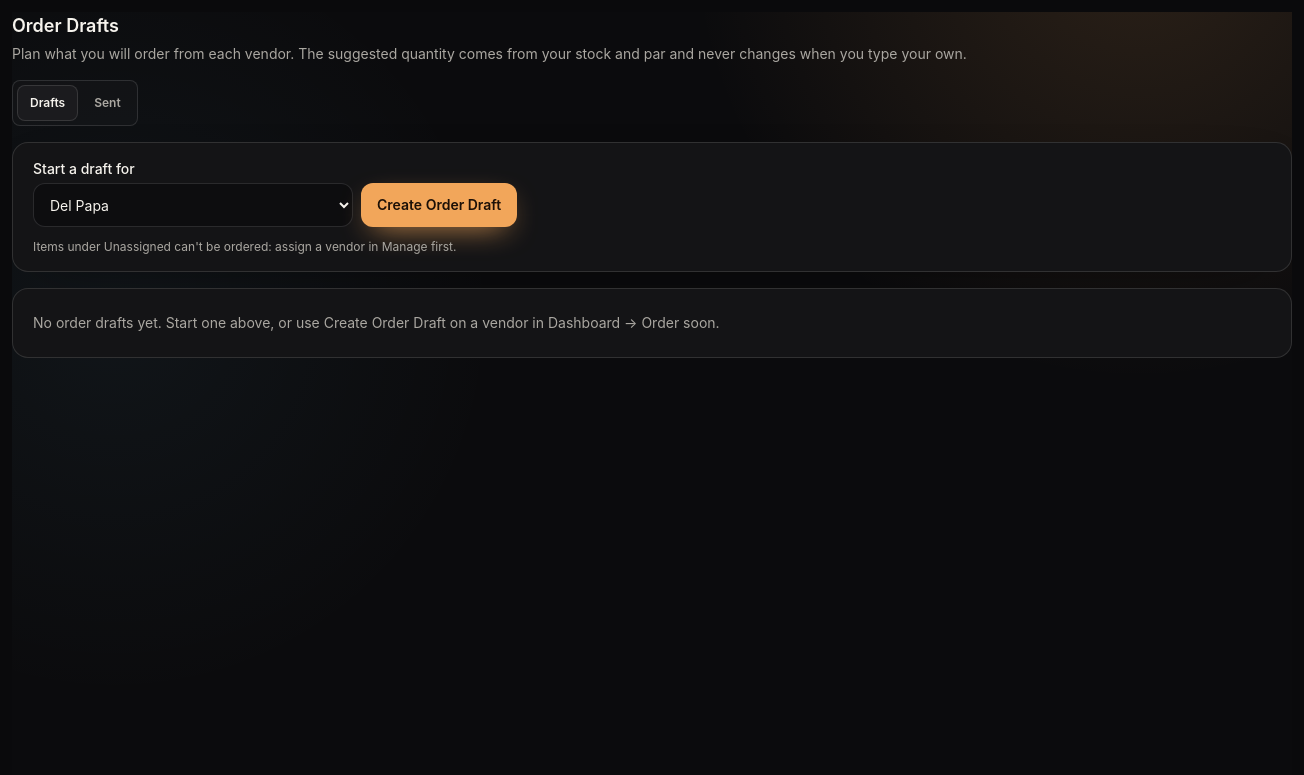
Order Drafts view states (VOD-006, loading/empty/error) › creates a draft for the chosen vendor and opens it; the vendor leaves the picker
Select "Faust" in the dropdown labelled "Start a draft for" at (193, 205), box left=33, top=183, right=353, bottom=227
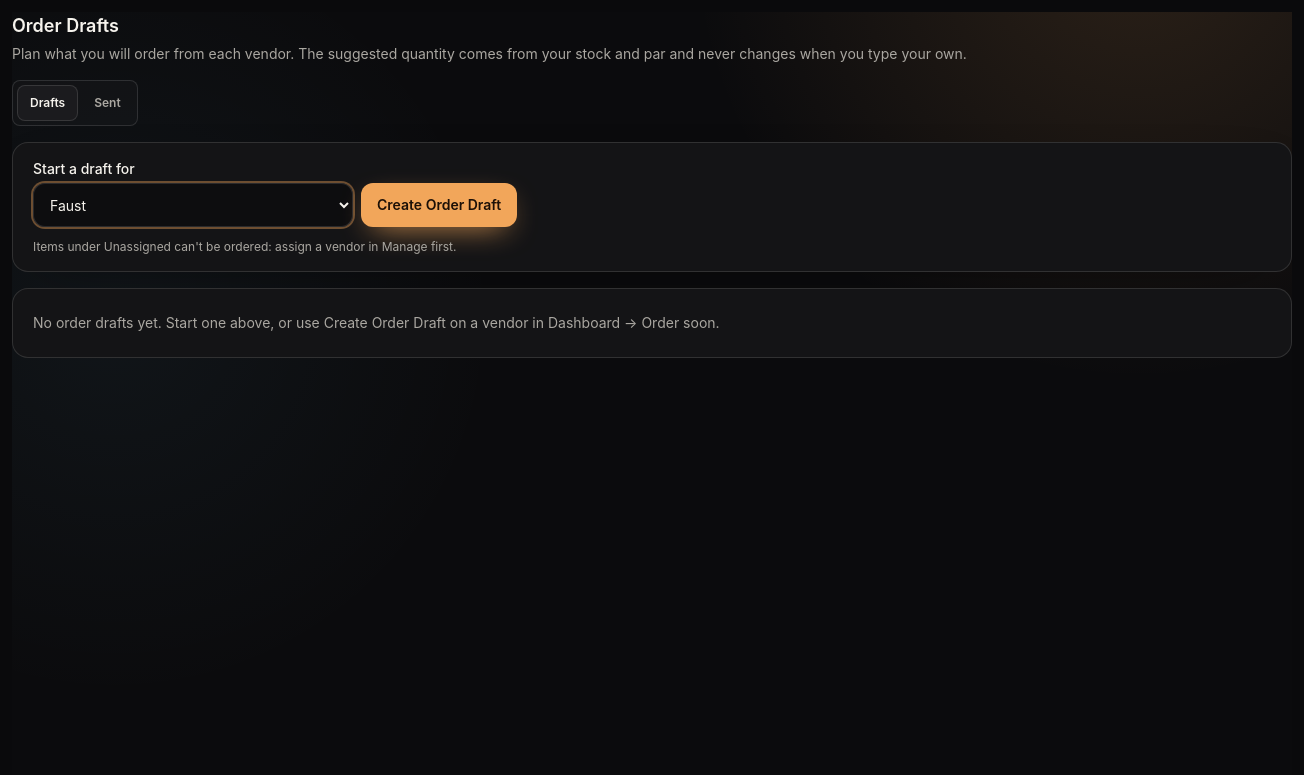
Click the button "Create Order Draft" at (439, 205), box left=361, top=183, right=517, bottom=227
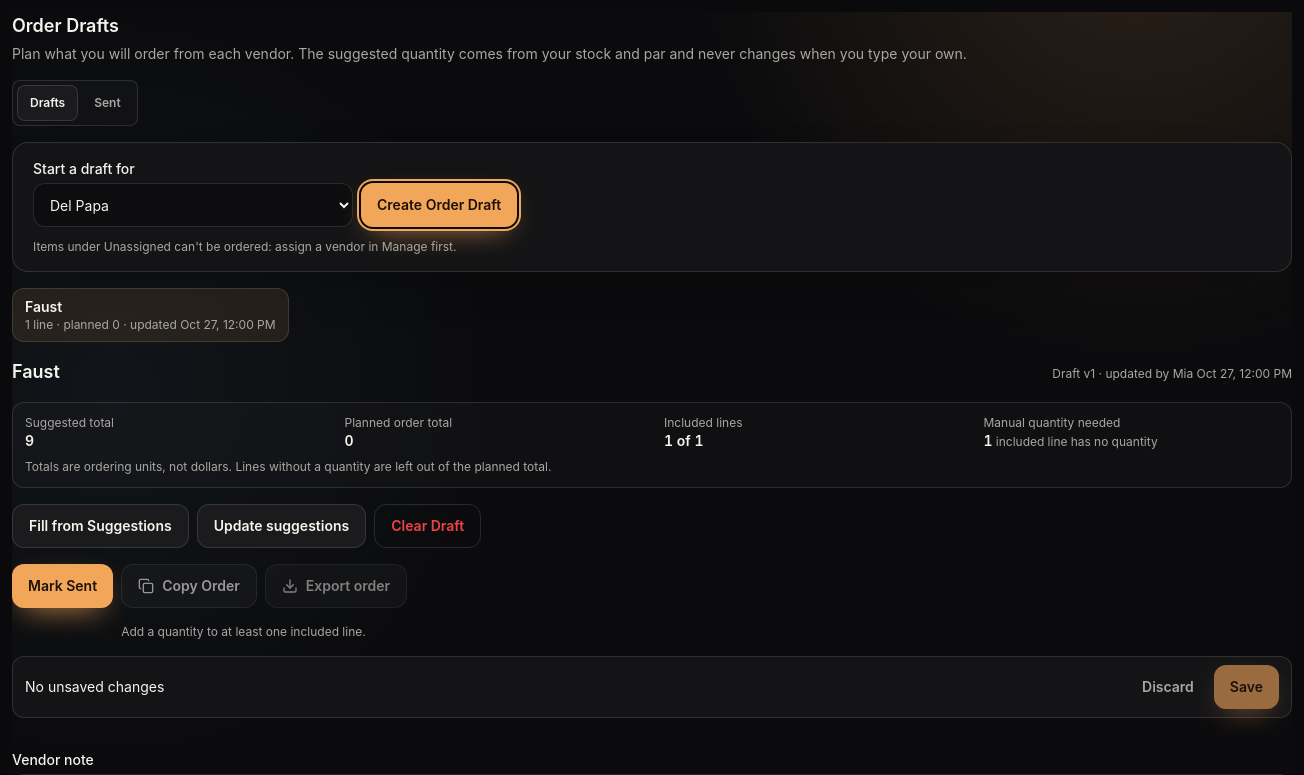
Now the heading "Faust" is shown, box left=12, top=358, right=60, bottom=386
